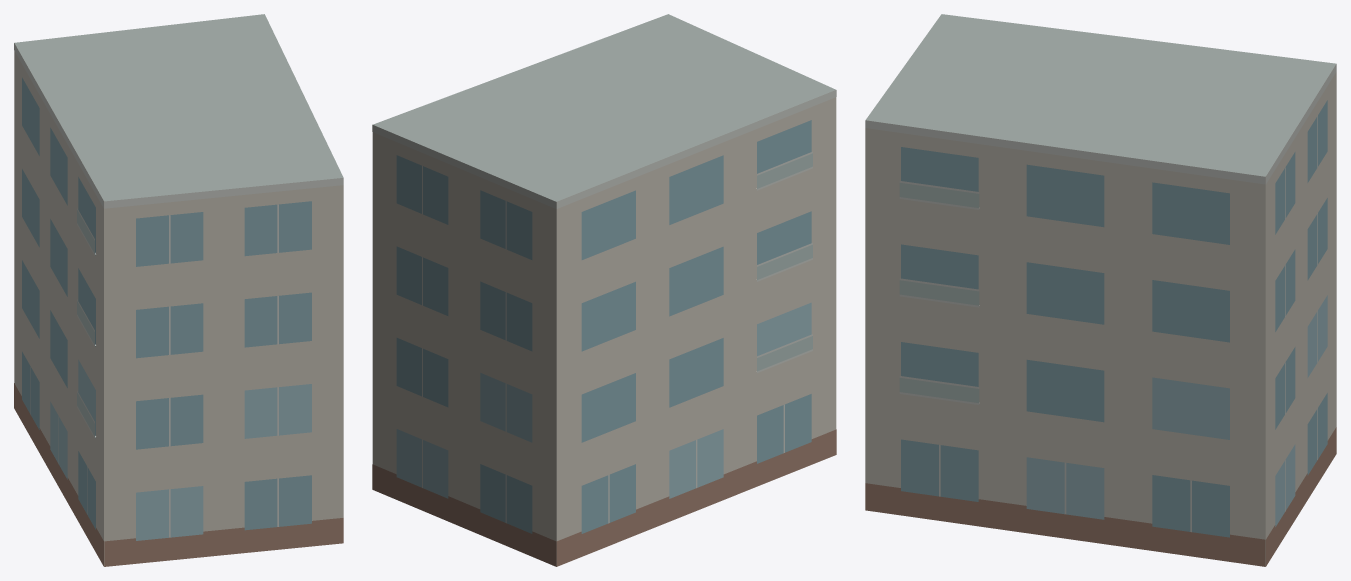
File: survey-upis-32784096.glb
The picture shows the model from 3 angles, left to right: view 1: azimuth 30°, elevation 25°; view 2: azimuth 150°, elevation 25°; view 3: azimuth 270°, elevation 25°; orthographic projection. The views are drawn at different scales.
Visible parts, largest first — view 1: survey-upis-32784096.tmp; view 2: survey-upis-32784096.tmp; view 3: survey-upis-32784096.tmp.
Boxes of the visible parts, bbox=[...] form: survey-upis-32784096.tmp: bbox=[14, 14, 343, 566]; survey-upis-32784096.tmp: bbox=[372, 14, 836, 566]; survey-upis-32784096.tmp: bbox=[865, 14, 1336, 566].
Bounding box in the file's own units: 10.93 × 12.2 × 13.37.
